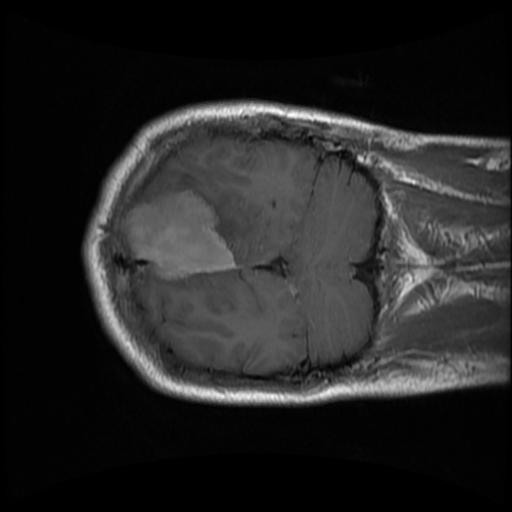meningioma: (123, 192, 235, 282)
